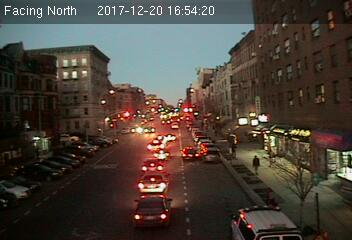car: (131, 193, 172, 226), (138, 170, 167, 193), (140, 158, 165, 172), (203, 147, 221, 163), (179, 146, 198, 161), (152, 148, 173, 160), (147, 139, 165, 151)
police: (227, 202, 303, 240)
